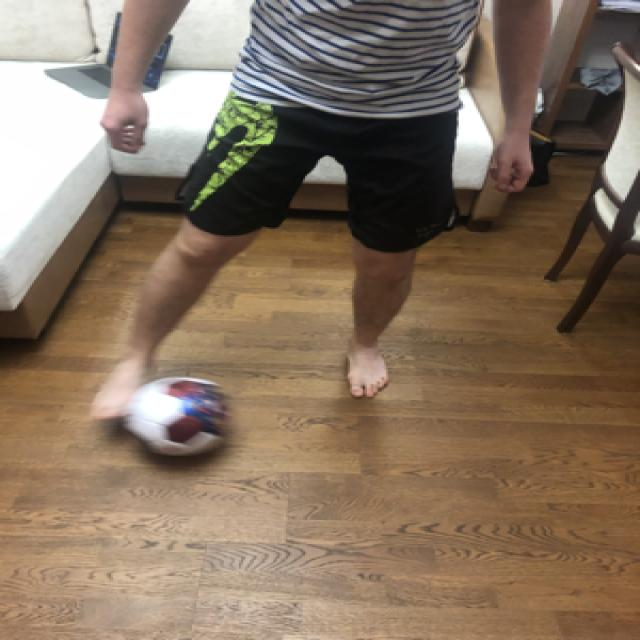soccer_ball: (126, 374, 230, 454)
